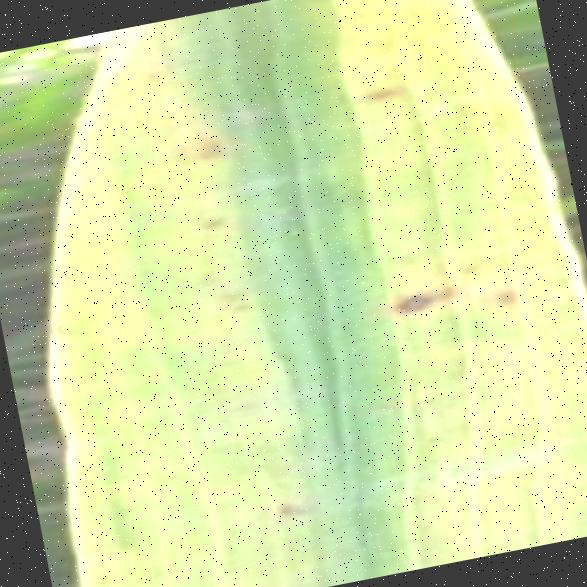Brown_Spot: (252, 484, 326, 534), (346, 70, 406, 112), (384, 278, 439, 322), (180, 129, 232, 169), (485, 278, 521, 311), (188, 206, 227, 236), (391, 244, 428, 274), (426, 274, 462, 304), (266, 339, 300, 366), (191, 262, 221, 292), (125, 438, 160, 462), (226, 394, 262, 414), (451, 258, 481, 278), (532, 362, 558, 384), (565, 341, 587, 363), (447, 352, 471, 368), (420, 429, 442, 446), (140, 67, 160, 84), (229, 298, 250, 312), (417, 392, 438, 406)
